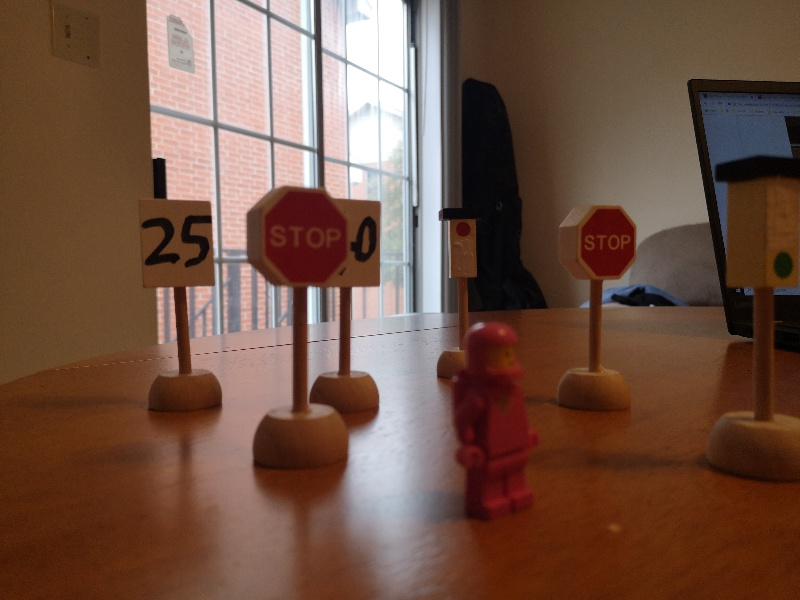Green Traffic Light: (713, 155, 800, 285)
Person: (448, 320, 542, 517)
Red Traffic Light: (436, 208, 484, 280)
Speed Limit 25: (136, 197, 217, 288)
Stop Sign: (245, 186, 350, 287), (554, 204, 639, 284)
